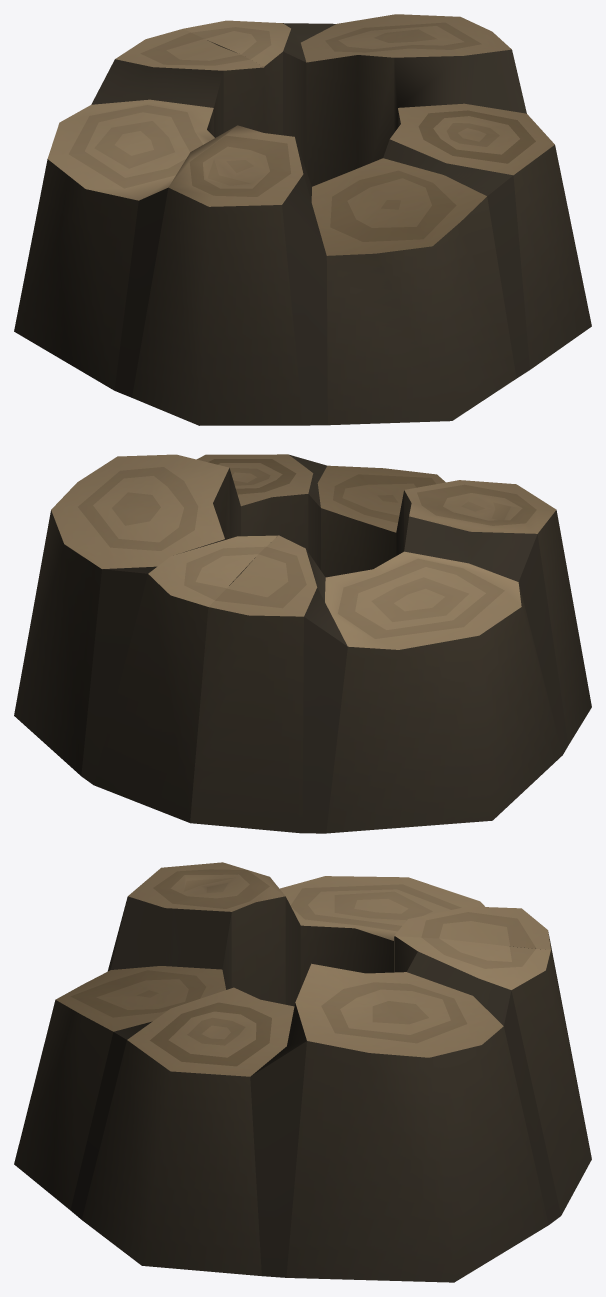
The model's file is orc_trunk_berm_XS.fbx.
3 renders of one model, top to bottom at view 1: azimuth 30°, elevation 25°; view 2: azimuth 150°, elevation 25°; view 3: azimuth 270°, elevation 25°, orthographic. The views are drawn at different scales.
Parts seen in each view (by area): view 1: orc_trunk_berm_XS; view 2: orc_trunk_berm_XS; view 3: orc_trunk_berm_XS.
Boxes of the visible parts, x1=… form: orc_trunk_berm_XS: x1=14, y1=14, x2=591, y2=425; orc_trunk_berm_XS: x1=14, y1=454, x2=591, y2=833; orc_trunk_berm_XS: x1=14, y1=862, x2=591, y2=1282.
Size of the model in its own units: 240 by 115 by 247.
